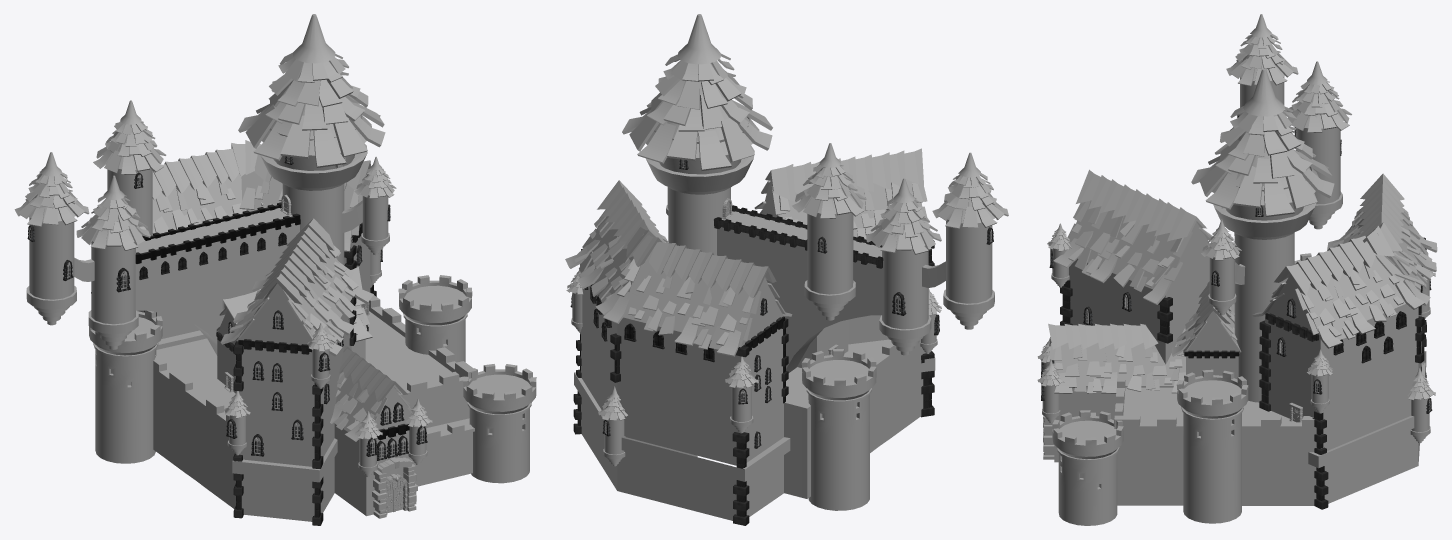
Rendered from ChâteauFBX_Test_Max.fbx.
3 views of the same model, side by side, from view 1: azimuth 30°, elevation 25°; view 2: azimuth 150°, elevation 25°; view 3: azimuth 270°, elevation 25° (orthographic). The views are drawn at different scales.
Parts seen in each view (by area): view 1: polySurface2055, pasted__pCylinder20, polySurface1987; view 2: polySurface2055, pasted__pCylinder20; view 3: polySurface2055, pasted__pCylinder20.
Part boxes in pixels (x1,y1,x2,y2): polySurface2055: [14, 14, 536, 525]; pasted__pCylinder20: [27, 156, 427, 460]; polySurface1987: [372, 457, 417, 518]; polySurface2055: [565, 14, 1008, 525]; pasted__pCylinder20: [570, 159, 993, 448]; polySurface2055: [1037, 14, 1437, 525]; pasted__pCylinder20: [1041, 115, 1432, 422].
Bounding box in the file's own units: 329 × 310 × 279.
